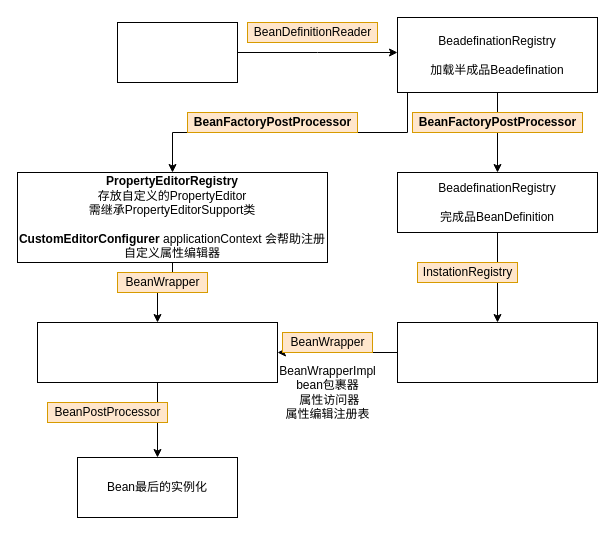
The diagram is 615 pixels wide and 535 high, and some of its shapes have lost their labels. The centre of each missing label's shape, as x and y in pixels:
bean实例化 （未设置属性）: point (497, 352)
完成初始化 设置完属性: point (157, 352)
配置文件: point (177, 52)
